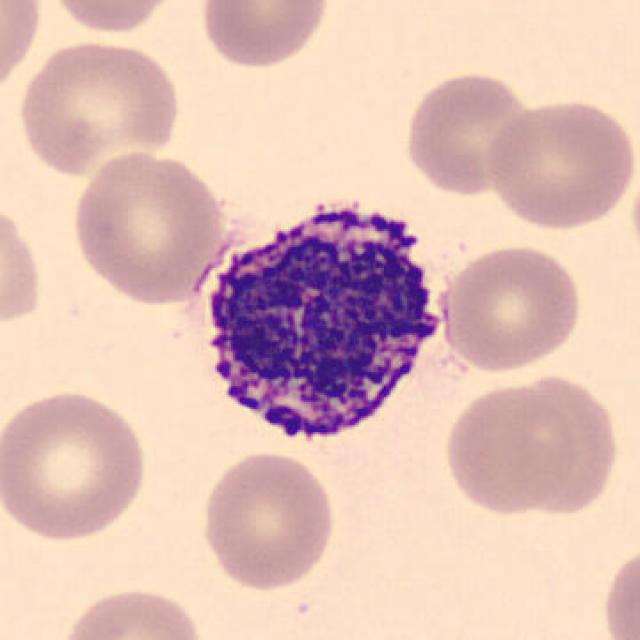Basophil: (180, 184, 462, 466)
RBC: (66, 146, 231, 307), (12, 35, 185, 178), (0, 386, 153, 545), (196, 446, 340, 594), (482, 95, 636, 233), (437, 240, 585, 376), (439, 377, 580, 517), (400, 67, 542, 197), (507, 370, 624, 520), (195, 0, 334, 72), (55, 583, 209, 640), (0, 196, 46, 335), (41, 0, 187, 37), (0, 1, 44, 98), (599, 537, 640, 640)
